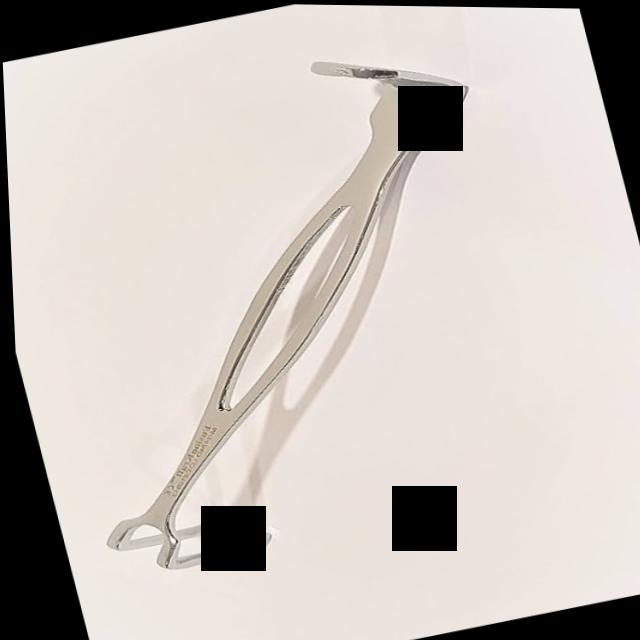Czerny Retractor: (1, 20, 576, 588)
